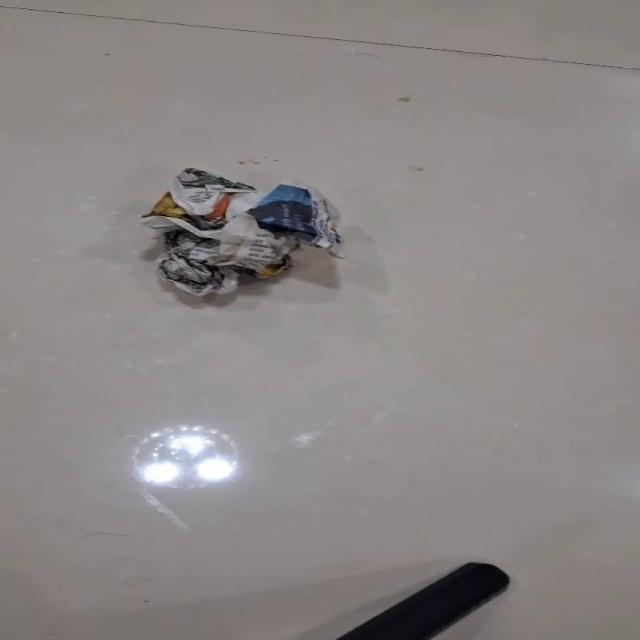paper: (138, 166, 345, 298)
